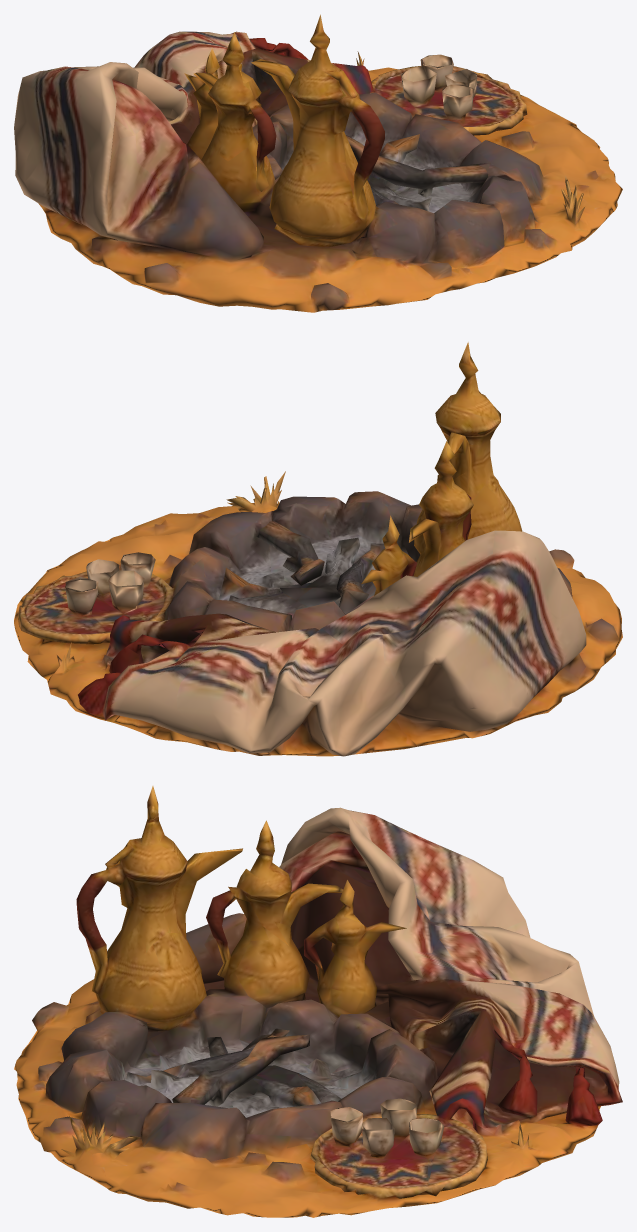
Rendered from campfire.glb.
The picture shows the model from 3 angles, top to bottom: view 1: azimuth 30°, elevation 25°; view 2: azimuth 150°, elevation 25°; view 3: azimuth 270°, elevation 25°; orthographic projection. The views are drawn at different scales.
Visible parts, largest first — view 1: tripo_node_c4cb7823-43d4-4b9f-ac18-aacfa58f65cf; view 2: tripo_node_c4cb7823-43d4-4b9f-ac18-aacfa58f65cf; view 3: tripo_node_c4cb7823-43d4-4b9f-ac18-aacfa58f65cf.
Boxes of the visible parts, x1,y1,x2,y2 form: tripo_node_c4cb7823-43d4-4b9f-ac18-aacfa58f65cf: (14, 14, 622, 312); tripo_node_c4cb7823-43d4-4b9f-ac18-aacfa58f65cf: (14, 342, 622, 756); tripo_node_c4cb7823-43d4-4b9f-ac18-aacfa58f65cf: (14, 786, 622, 1217).
Size of the model in its own units: 1 by 0.4703 by 0.983.
Materials: 1 (1 with a texture image).
